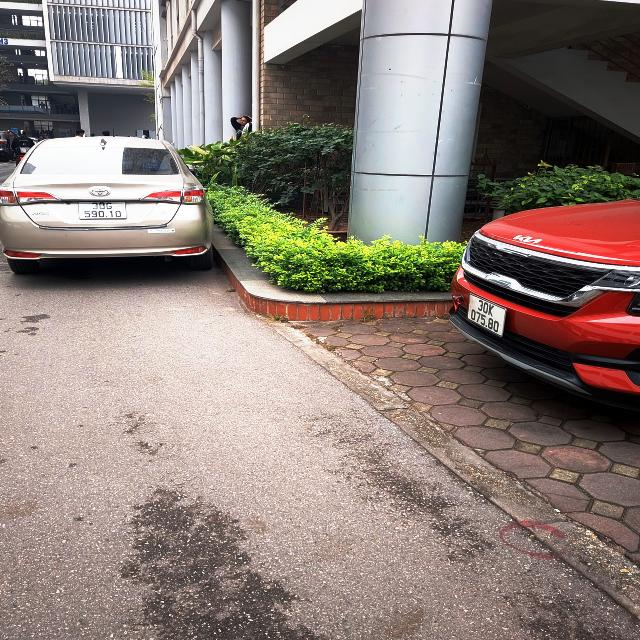license_plate: (469, 294, 507, 336), (79, 203, 128, 219)
